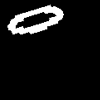chain: (8, 6, 63, 33)
